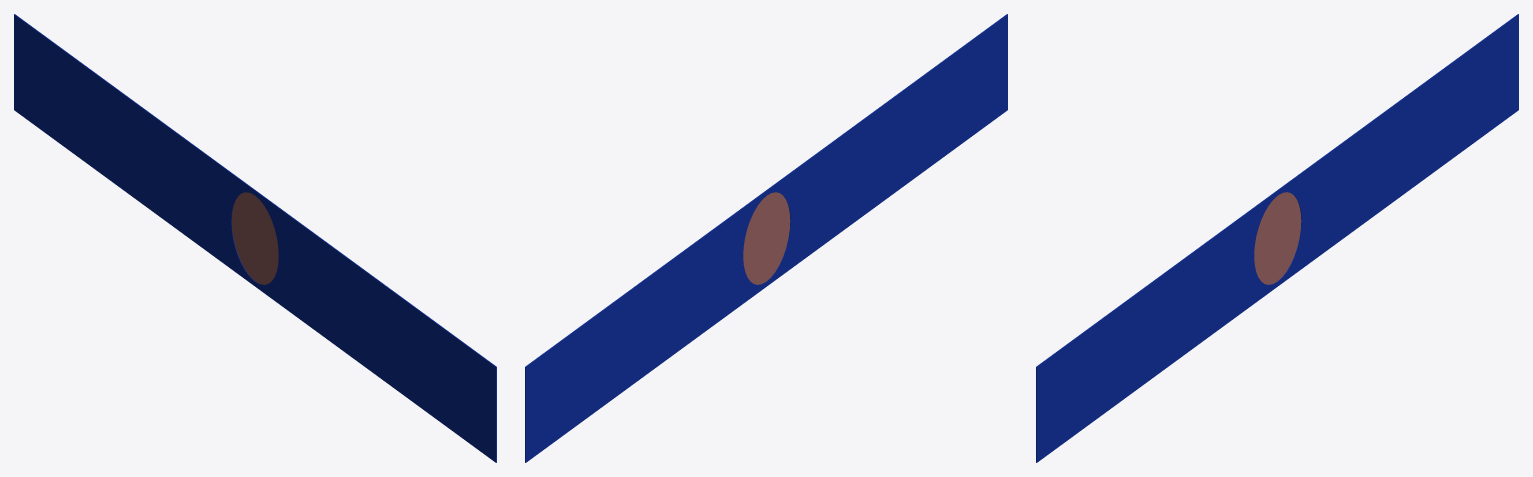
The model's file is 10x90 cornhole.FBX.
3 views of the same model, side by side, from view 1: azimuth 30°, elevation 25°; view 2: azimuth 150°, elevation 25°; view 3: azimuth 330°, elevation 25° (orthographic).
Visible parts, largest first — view 1: Box071; view 2: Box071; view 3: Box071.
Part boxes in pixels (x1,y1,x2,y2): Box071: (14, 14, 496, 462); Box071: (525, 14, 1007, 462); Box071: (1036, 14, 1518, 462).
Bounding box in the file's own units: 0.1 × 10 × 91.12.
